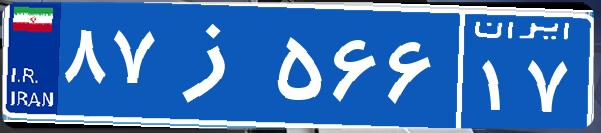1: (475, 38, 525, 113)
5: (273, 28, 330, 110)
6: (385, 28, 445, 110), (330, 28, 385, 110)
7: (110, 28, 158, 105), (525, 38, 570, 115)
8: (57, 26, 110, 107)
ز: (158, 15, 273, 115)
